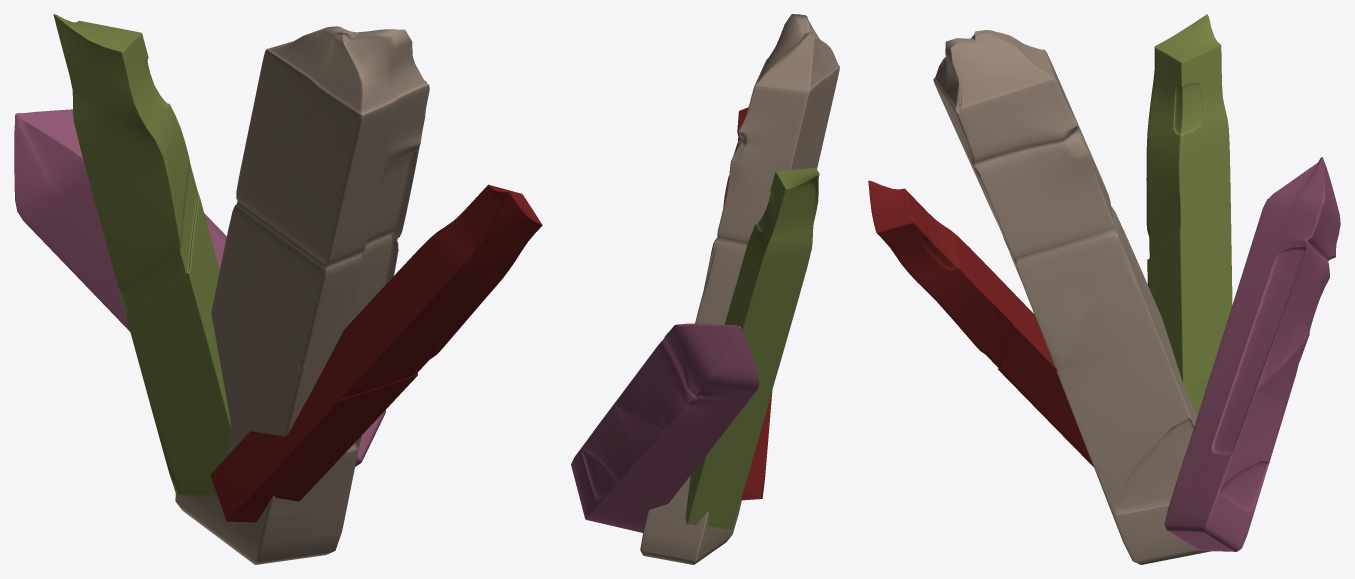
Rendered from Crystal_mesh.obj.
3 views of the same model, side by side, from view 1: azimuth 30°, elevation 25°; view 2: azimuth 150°, elevation 25°; view 3: azimuth 270°, elevation 25° (orthographic). The views are drawn at different scales.
Visible parts, largest first — view 1: Gems GemIsland Geo GemFL, Gems GemIsland Geo GemBR, Gems GemIsland Geo GemBL, GemFR Gems GemIsland Geo; view 2: GemFR Gems GemIsland Geo, Gems GemIsland Geo GemFL, Gems GemIsland Geo GemBR, Gems GemIsland Geo GemBL; view 3: Gems GemIsland Geo GemFL, GemFR Gems GemIsland Geo, Gems GemIsland Geo GemBR, Gems GemIsland Geo GemBL.
Boxes of the visible parts, x1=… form: Gems GemIsland Geo GemFL: x1=175, y1=26, x2=429, y2=564; Gems GemIsland Geo GemBR: x1=53, y1=14, x2=230, y2=495; Gems GemIsland Geo GemBL: x1=210, y1=184, x2=542, y2=522; GemFR Gems GemIsland Geo: x1=14, y1=109, x2=385, y2=466; GemFR Gems GemIsland Geo: x1=571, y1=323, x2=759, y2=532; Gems GemIsland Geo GemFL: x1=640, y1=14, x2=839, y2=564; Gems GemIsland Geo GemBR: x1=685, y1=167, x2=819, y2=529; Gems GemIsland Geo GemBL: x1=723, y1=107, x2=772, y2=500; Gems GemIsland Geo GemFL: x1=933, y1=30, x2=1211, y2=564; GemFR Gems GemIsland Geo: x1=1164, y1=157, x2=1340, y2=551; Gems GemIsland Geo GemBR: x1=1146, y1=14, x2=1232, y2=415; Gems GemIsland Geo GemBL: x1=868, y1=180, x2=1093, y2=466.
Bounding box in the file's own units: 14.94 × 26.67 × 22.73.
